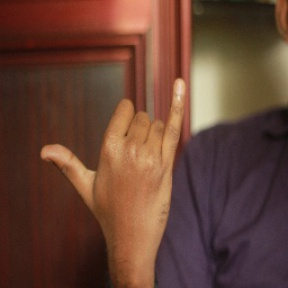J: (40, 77, 190, 236)
